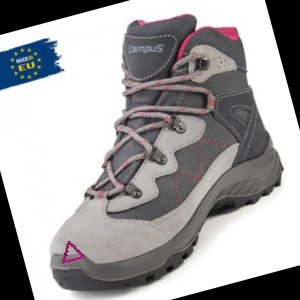triangle: (58, 238, 88, 265)
